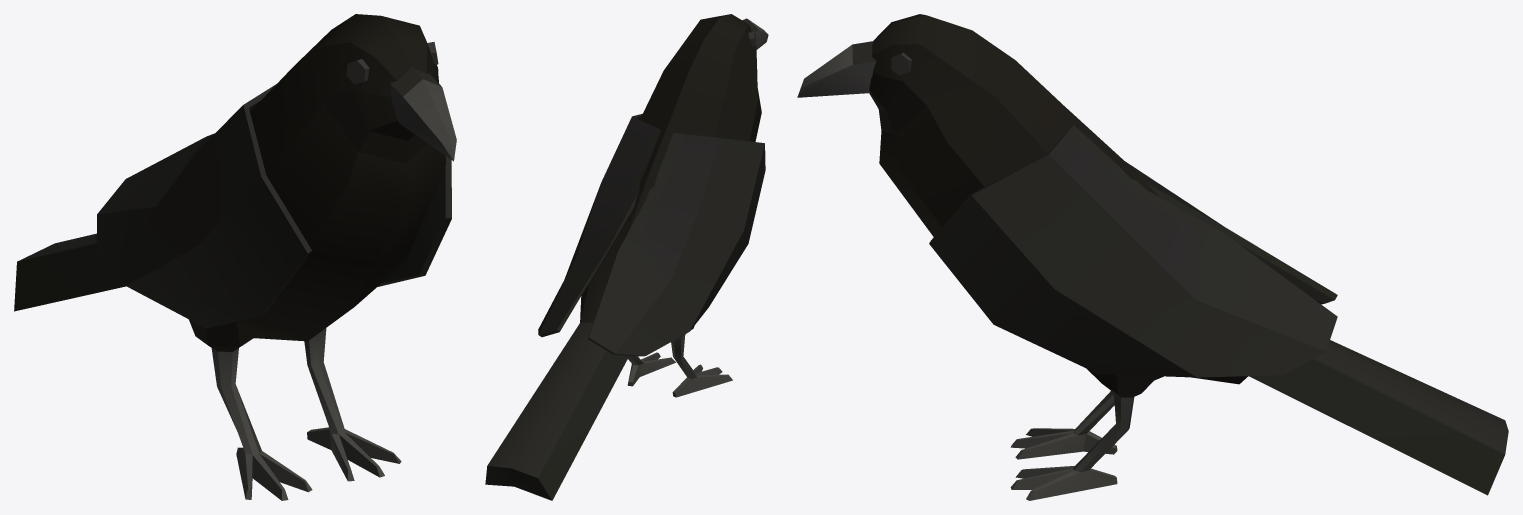
Rendered from animals-raven-166.glb.
3 views of the same model, side by side, from view 1: azimuth 30°, elevation 25°; view 2: azimuth 150°, elevation 25°; view 3: azimuth 270°, elevation 25° (orthographic). The views are drawn at different scales.
Parts seen in each view (by area): view 1: Geo_Raven; view 2: Geo_Raven; view 3: Geo_Raven.
Part boxes in pixels (<box>): Geo_Raven: <box>14,14,456,500</box>; Geo_Raven: <box>485,14,768,500</box>; Geo_Raven: <box>797,14,1508,500</box>.
Size of the model in its own units: 23.03 by 51.87 by 73.12.
Materials: 1 (1 with a texture image).
